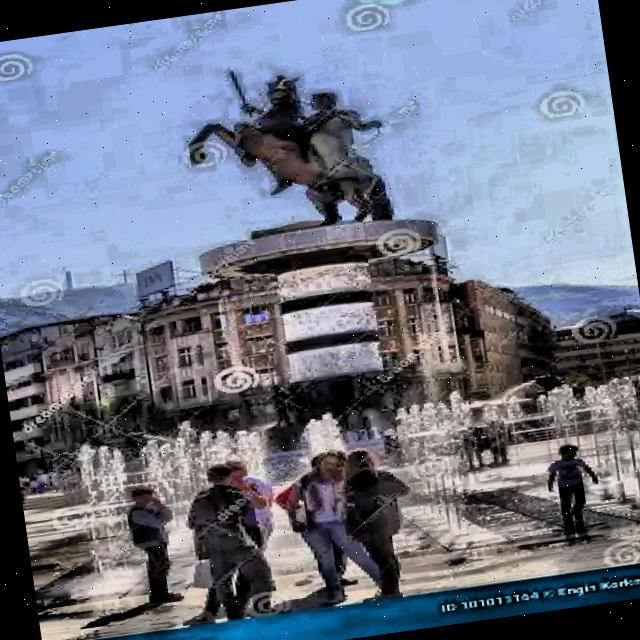alexander the great monument: (168, 33, 478, 484)
